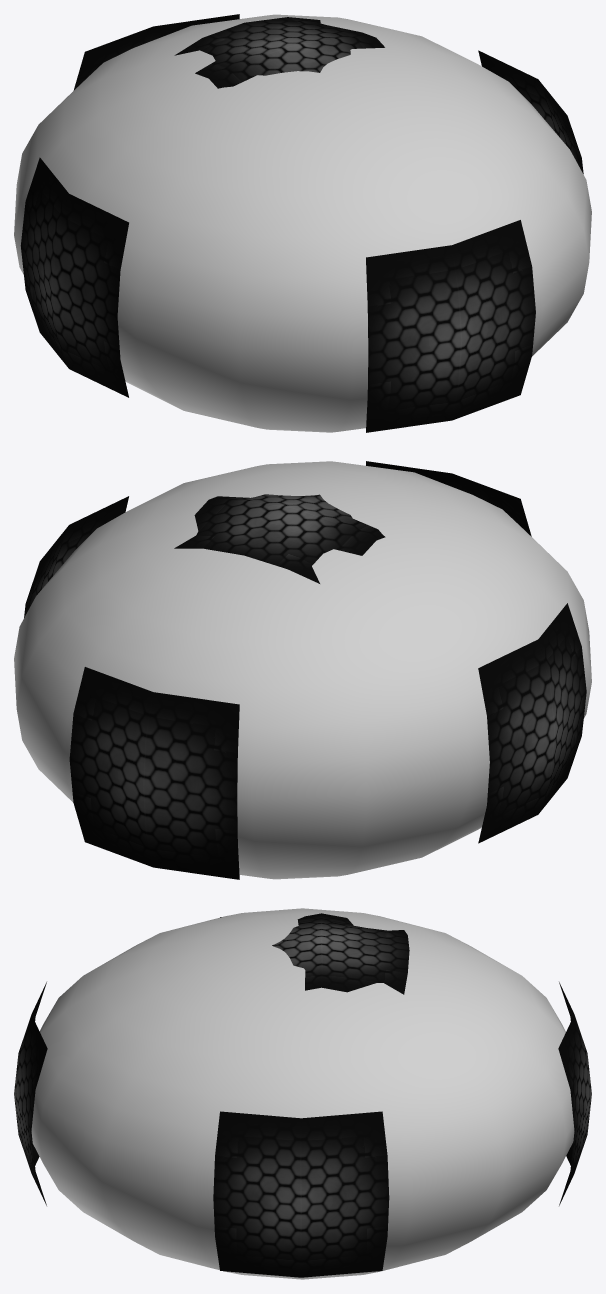
File: force_field_4.fbx
The picture shows the model from 3 angles, top to bottom: view 1: azimuth 30°, elevation 25°; view 2: azimuth 150°, elevation 25°; view 3: azimuth 270°, elevation 25°; orthographic projection. The views are drawn at different scales.
Parts seen in each view (by area): view 1: ForceField.007, ForceField.006; view 2: ForceField.007, ForceField.006; view 3: ForceField.007, ForceField.006.
Part boxes in pixels (<box>): ForceField.007: <box>14,14,591,432</box>; ForceField.006: <box>20,14,583,432</box>; ForceField.007: <box>14,461,591,879</box>; ForceField.006: <box>24,461,586,879</box>; ForceField.007: <box>31,908,574,1279</box>; ForceField.006: <box>14,913,591,1277</box>.
Bounding box in the file's own units: 1622 × 1055 × 1778.
